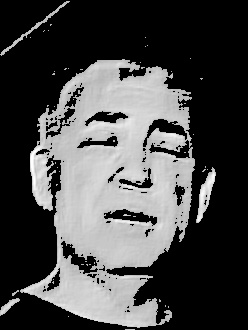nose_M_C: (117, 143, 155, 206)
